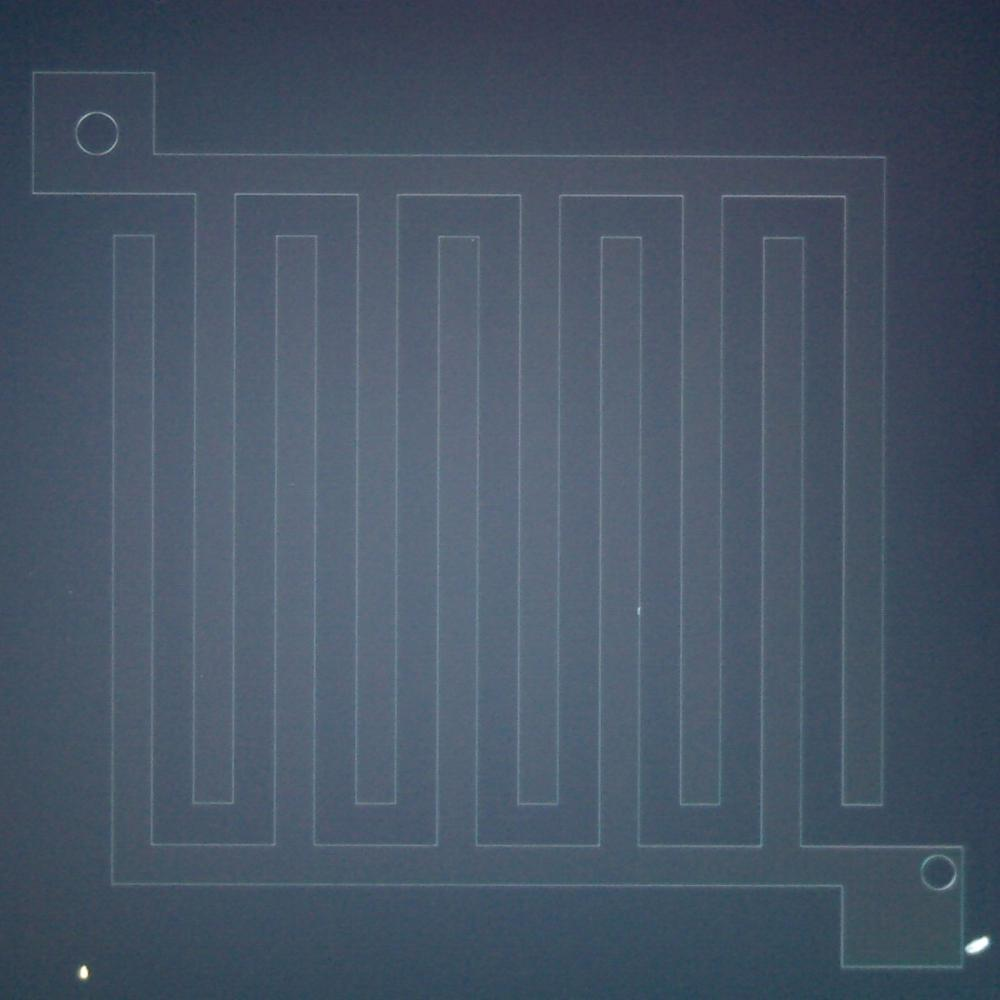circle: (913, 852, 968, 896), (73, 111, 124, 158)
spot: (955, 926, 1000, 966), (67, 955, 107, 987)
